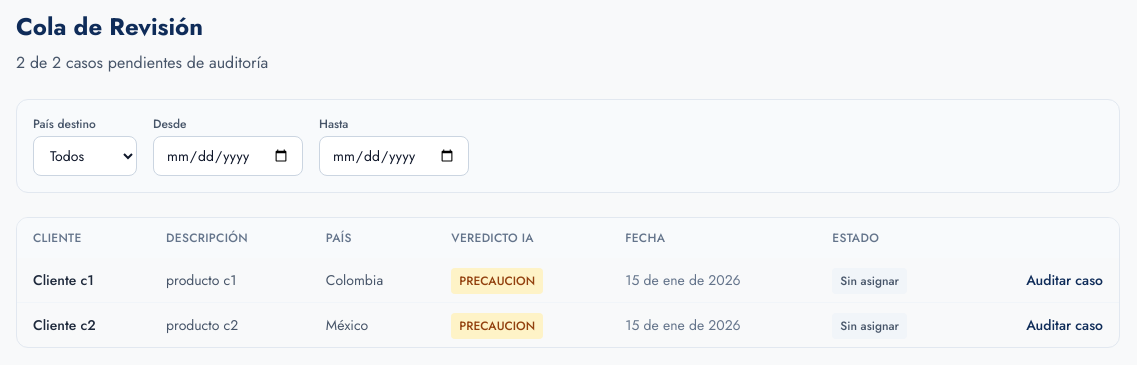
Scenario: AgentPanel › filtra por país y actualiza el contador
Expected: the text "Cliente c1" is shown, [33,270,94,290]
Select "México" in the dropdown labelled "País destino": point(85, 156) [33,136,137,176]
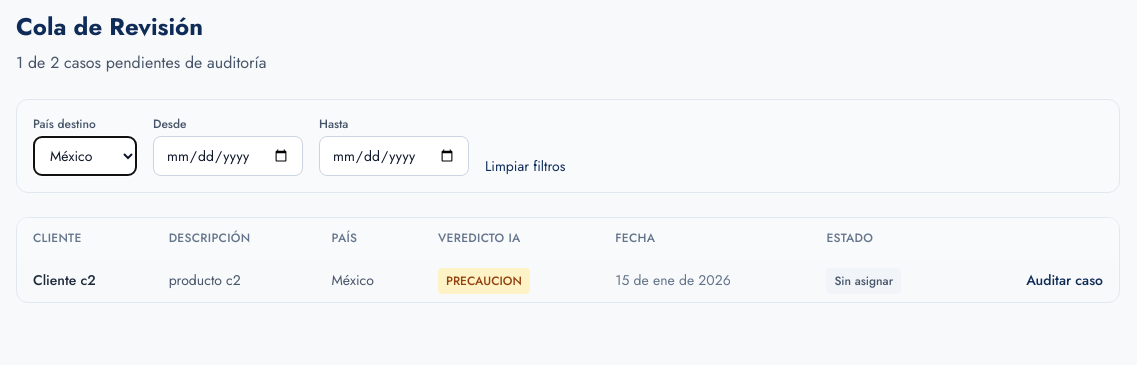
Expected: the text "Cliente c2" is shown, [33,270,96,290]
Expected: the text "Cliente c1" is gone
Expected: the text "1 de 2 casos pendientes de auditoría" is shown, [16,51,266,74]
